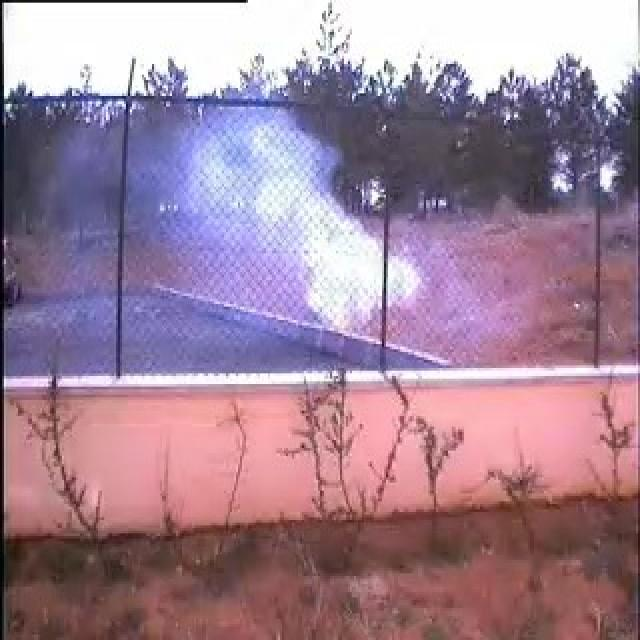smoke: (127, 95, 420, 377)
